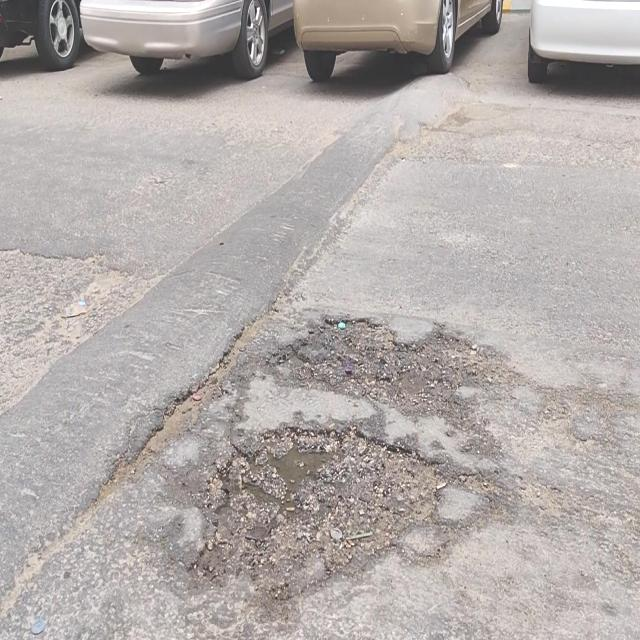Potholes: (181, 415, 455, 597), (261, 310, 512, 454)
